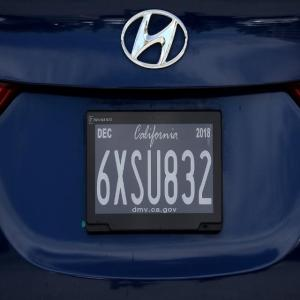Plate: (85, 110, 223, 232)
